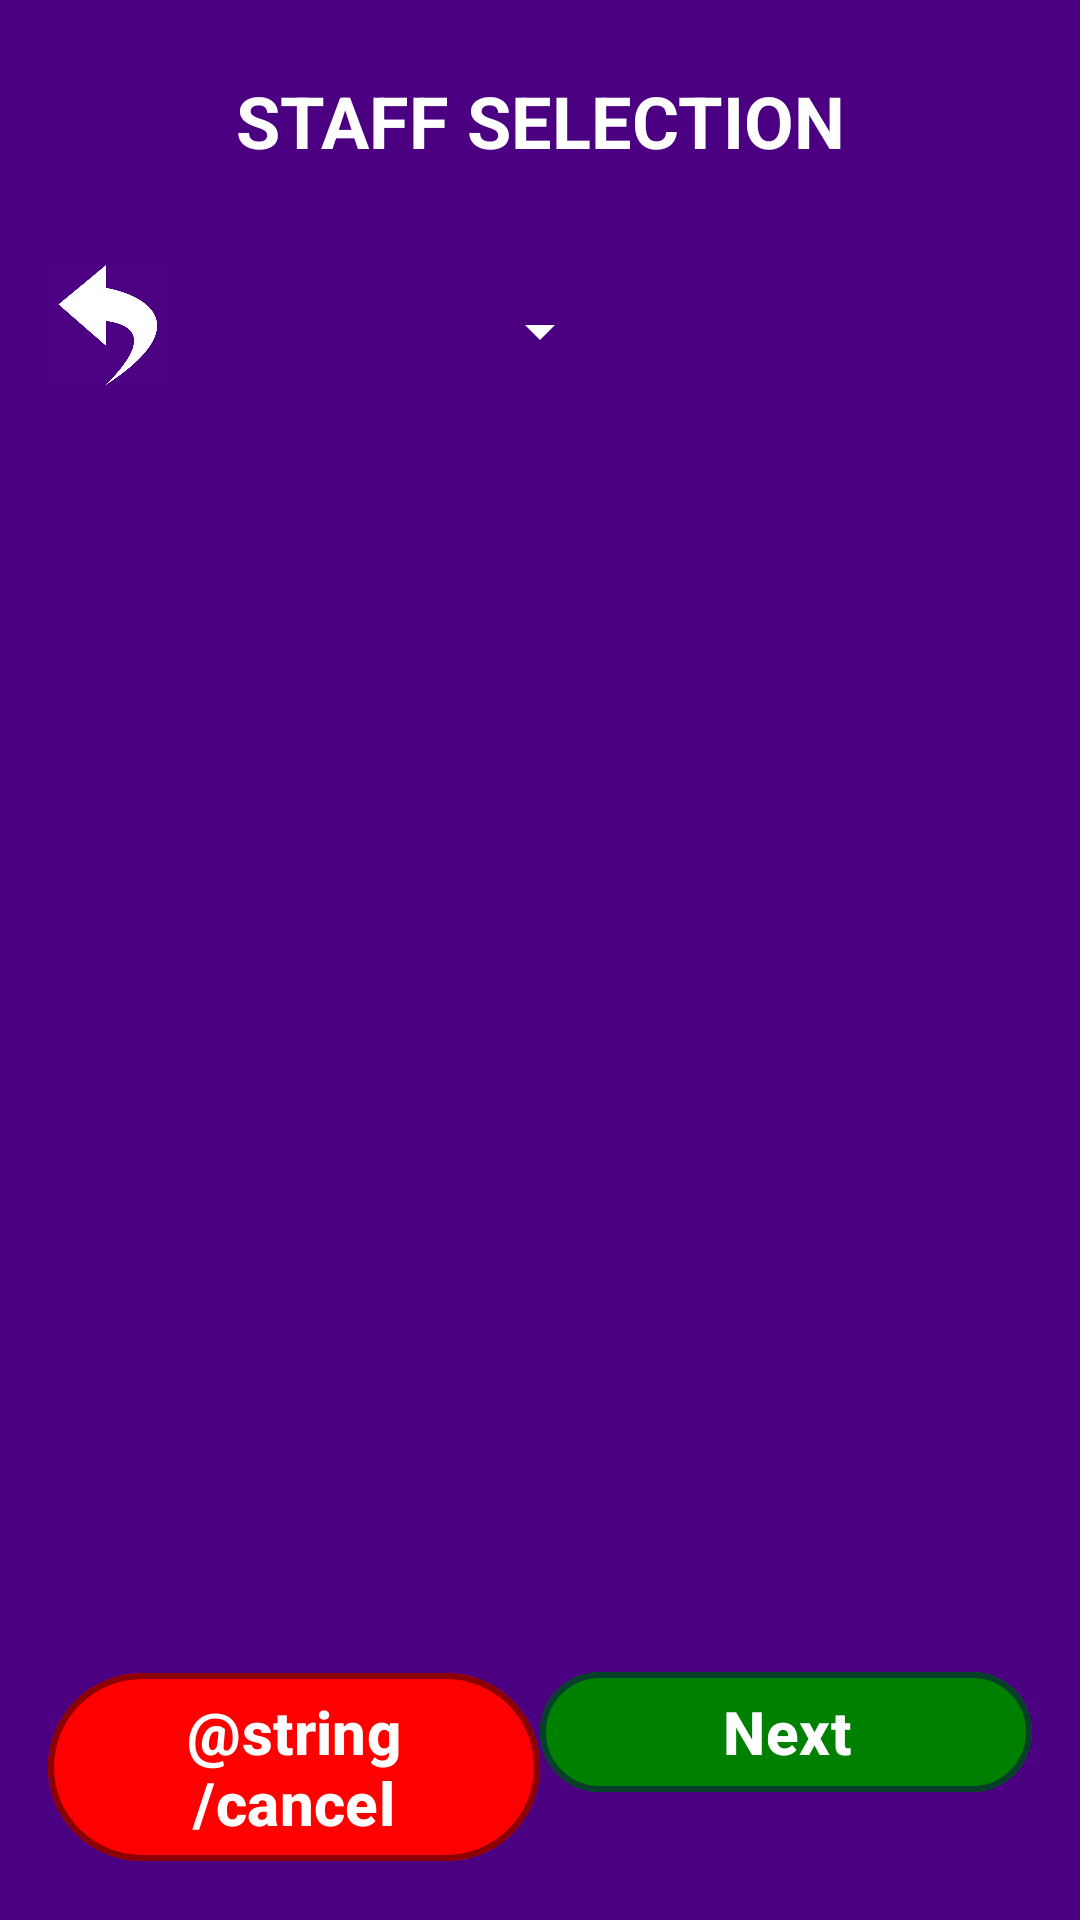

Icons on this 1080 x 1920 Android screen, each with the point to tap as (x=x, y=y):
back arrow: (x=107, y=325)
